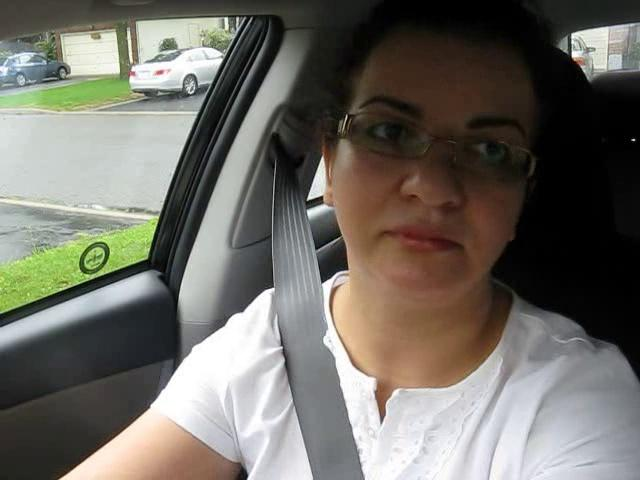no_yawn: (357, 206, 479, 272)
open_eyeL: (347, 106, 432, 161)
open_eyeR: (444, 124, 534, 183)
